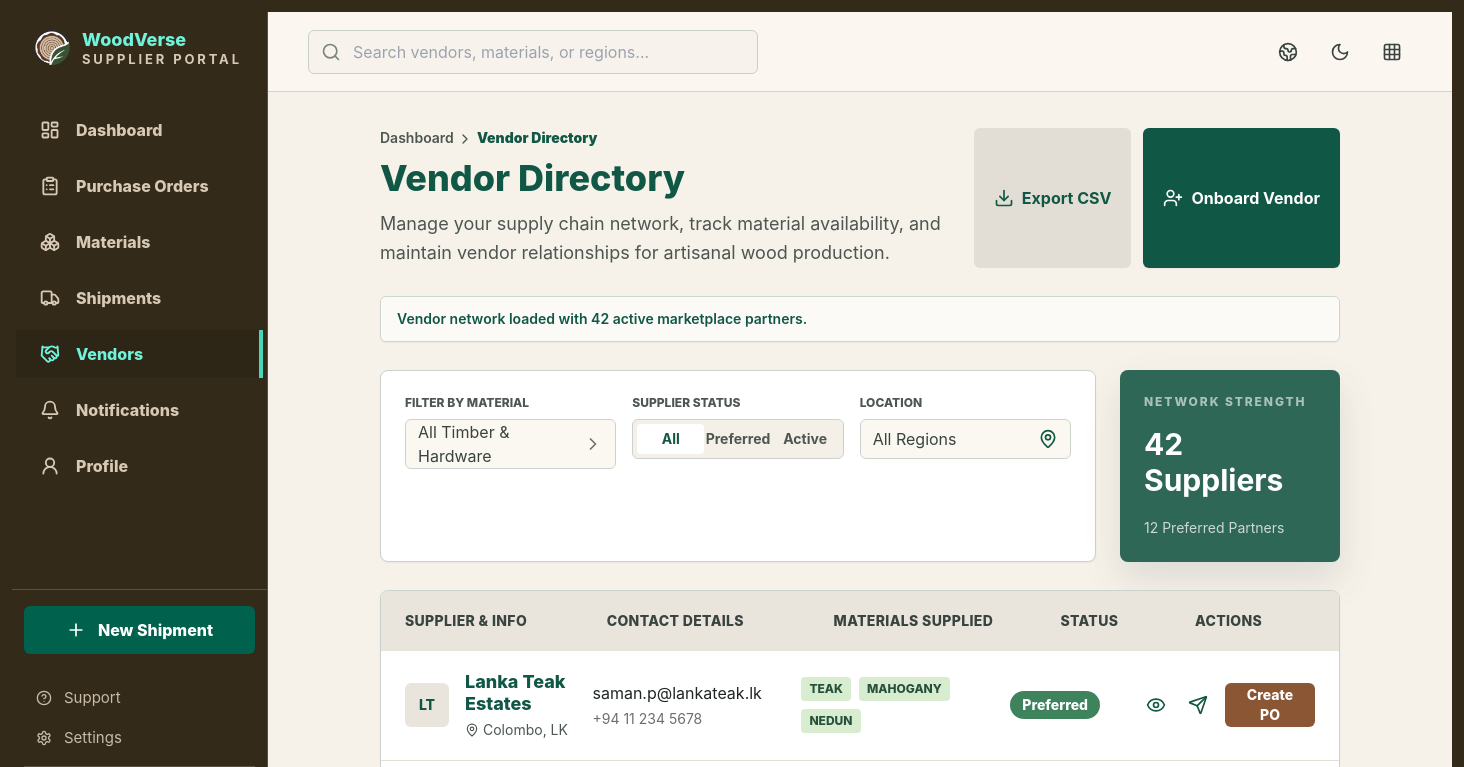
SupplierVendorsPage filters › says so when a filter combination matches nothing
This screenshot has width=1464, height=767.
Click the button "Active" at x=805, y=438, box [772,424,839,454]
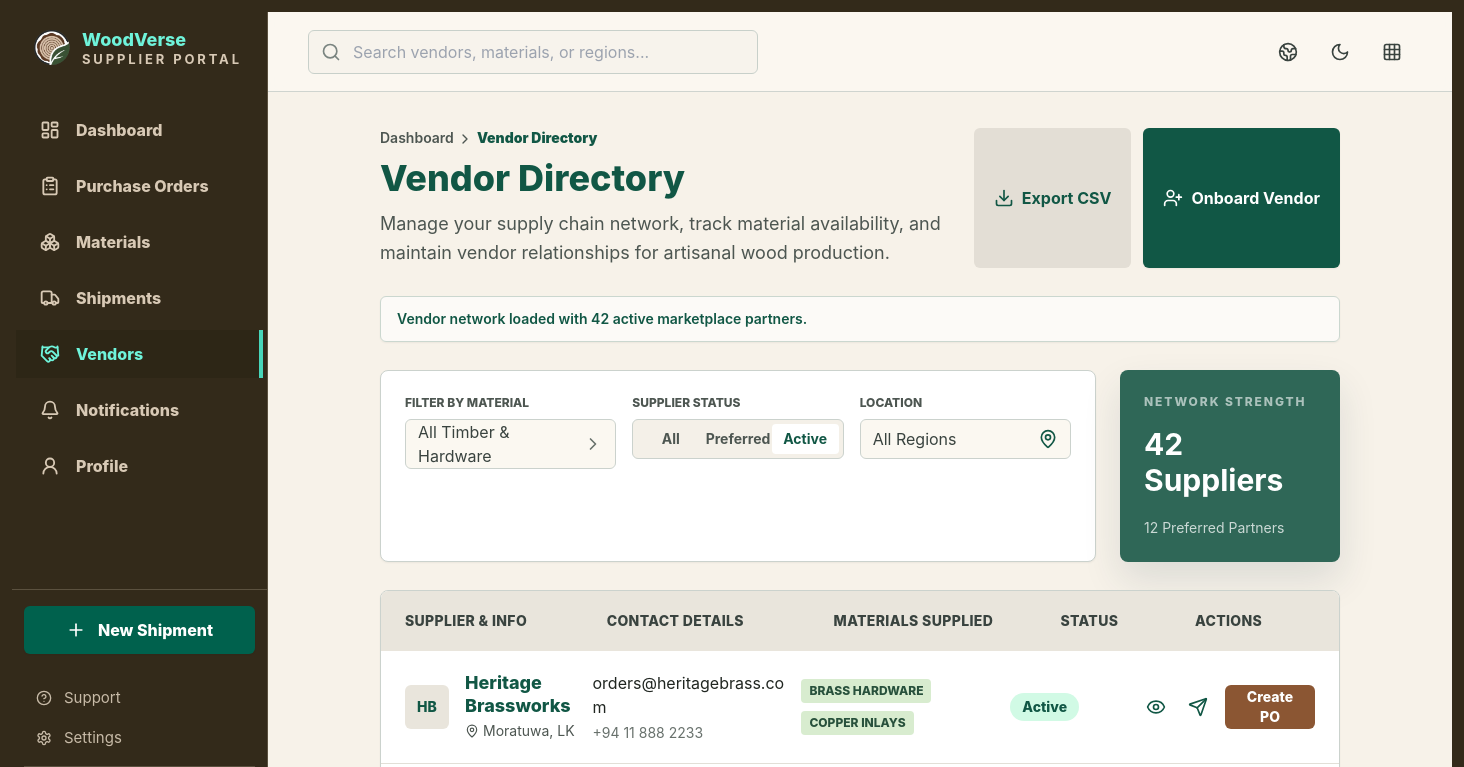
Click the button "All Regions" at x=965, y=438, box [860,418,1071,458]
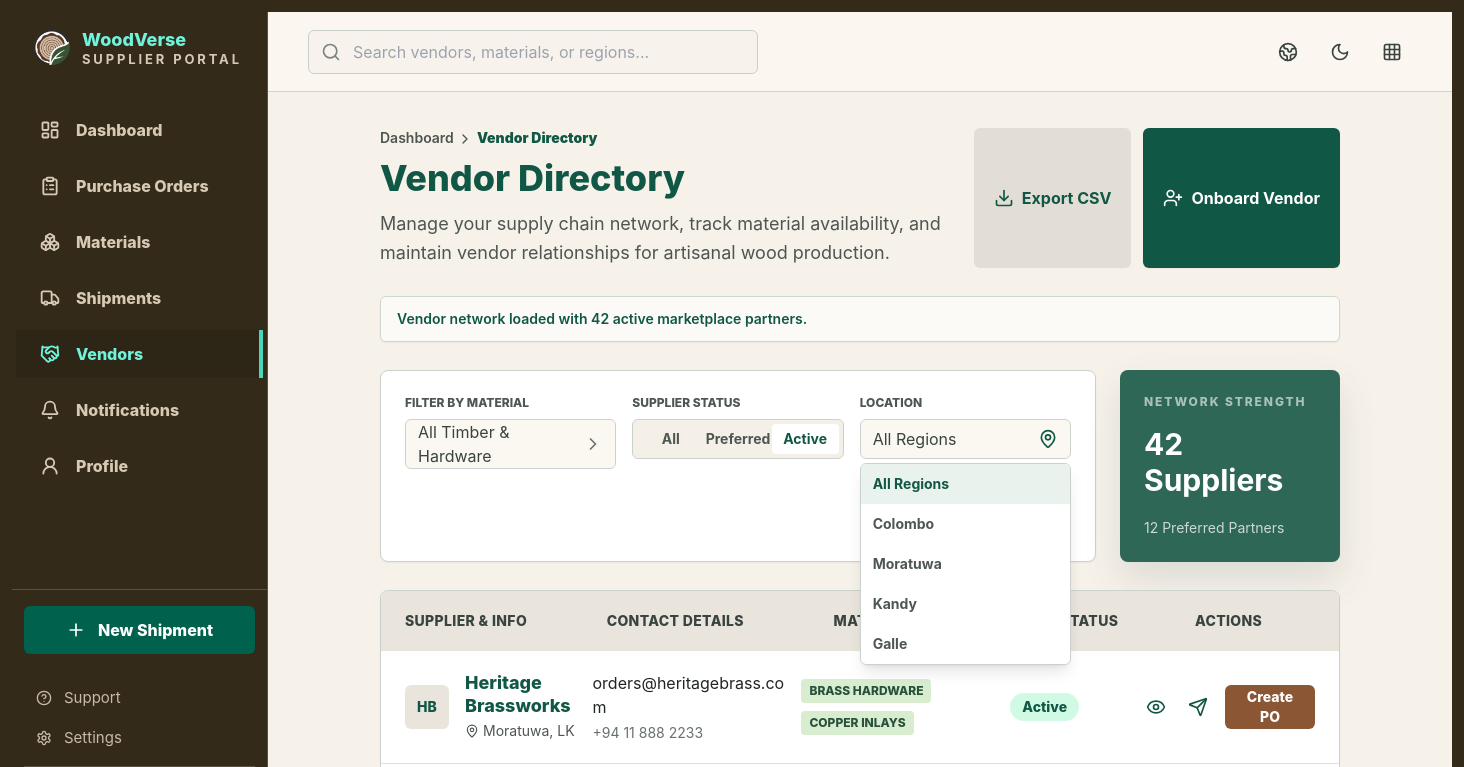
Click the option "Galle" at x=965, y=644, box [861,624,1070,664]
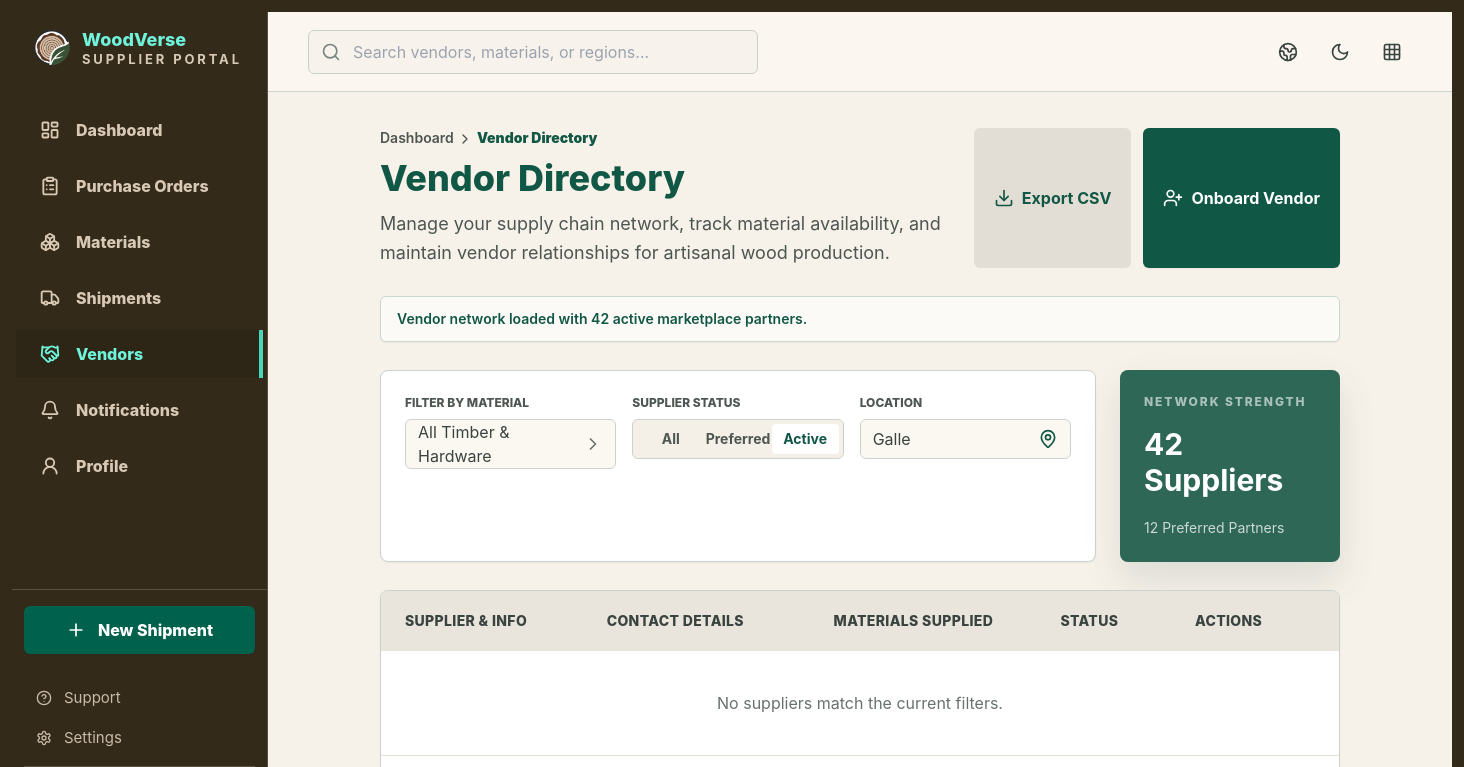
Check: the text "No suppliers match the current filters." is shown, box [717,692,1003,712]
